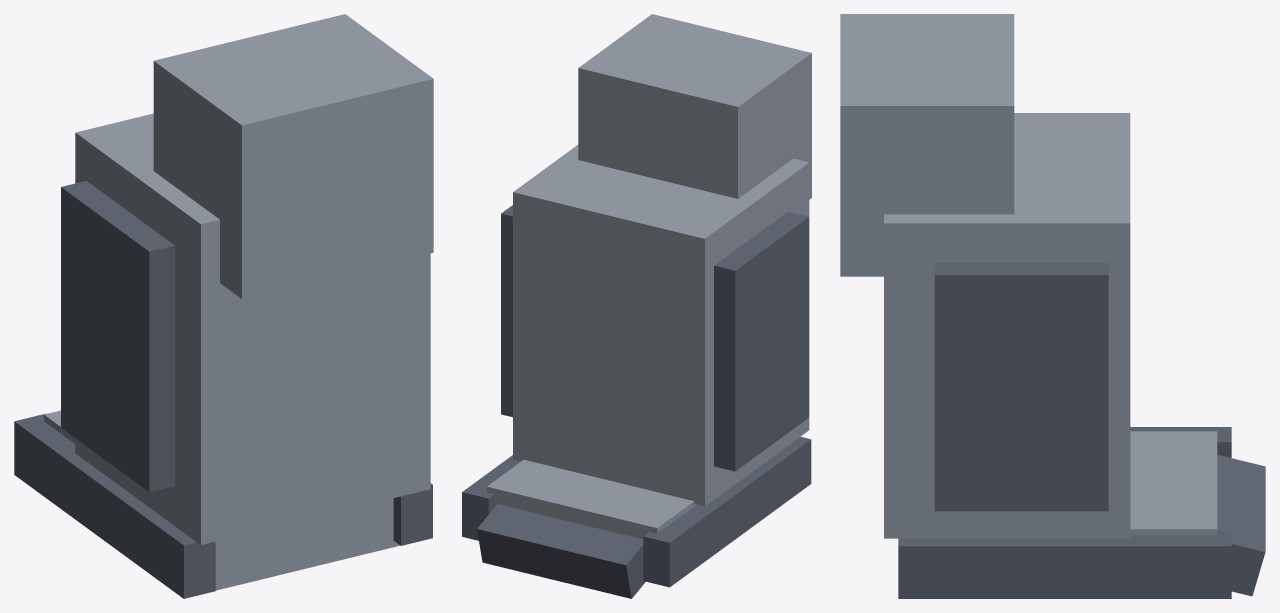
Rendered from procedural_leg_left_lower.glb.
3 renders of one model, left to right at view 1: azimuth 30°, elevation 25°; view 2: azimuth 150°, elevation 25°; view 3: azimuth 270°, elevation 25°, orthographic. The views are drawn at different scales.
Visible parts, largest first — view 1: ShinGuard, KneeCap, Calf_L, Skid_L, FootCap, Skid_R; view 2: ShinGuard, KneeCap, Calf_L, ToeDeflector, Skid_L, FootCap, Calf_R, Skid_R; view 3: ShinGuard, Calf_R, KneeCap, Skid_R, FootCap, ToeDeflector, Skid_L.
Boxes of the visible parts, x1,y1,x2,y2 form: ShinGuard: (75, 113, 430, 544); KneeCap: (153, 14, 433, 299); Calf_L: (61, 181, 174, 492); Skid_L: (14, 413, 215, 598); FootCap: (44, 410, 399, 590); Skid_R: (393, 483, 432, 545); ShinGuard: (513, 145, 809, 506); KneeCap: (578, 14, 811, 199); Calf_L: (714, 211, 809, 471); ToeDeflector: (477, 504, 645, 598); Skid_L: (643, 436, 811, 587); FootCap: (486, 459, 696, 539); Calf_R: (501, 205, 512, 417); Skid_R: (462, 455, 520, 540); ShinGuard: (884, 113, 1130, 538); Calf_R: (934, 262, 1108, 511); KneeCap: (840, 14, 1014, 276); Skid_R: (898, 531, 1231, 598); FootCap: (1130, 431, 1217, 535); ToeDeflector: (1217, 455, 1265, 596); Skid_L: (1130, 427, 1231, 457).
Size of the model in its own units: 0.44 by 0.7519 by 0.5867.
